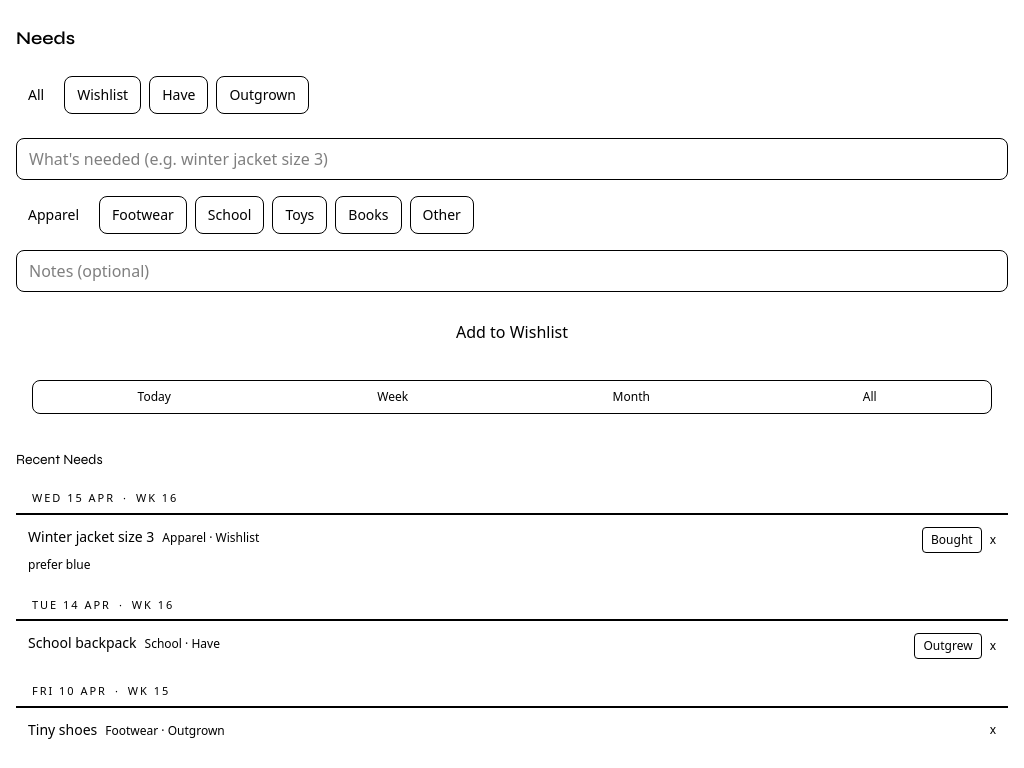
Test: NeedsLog — filter chips › filters to Wishlist entries only
Click the button "Wishlist": [103, 95] box [64,76,141,114]
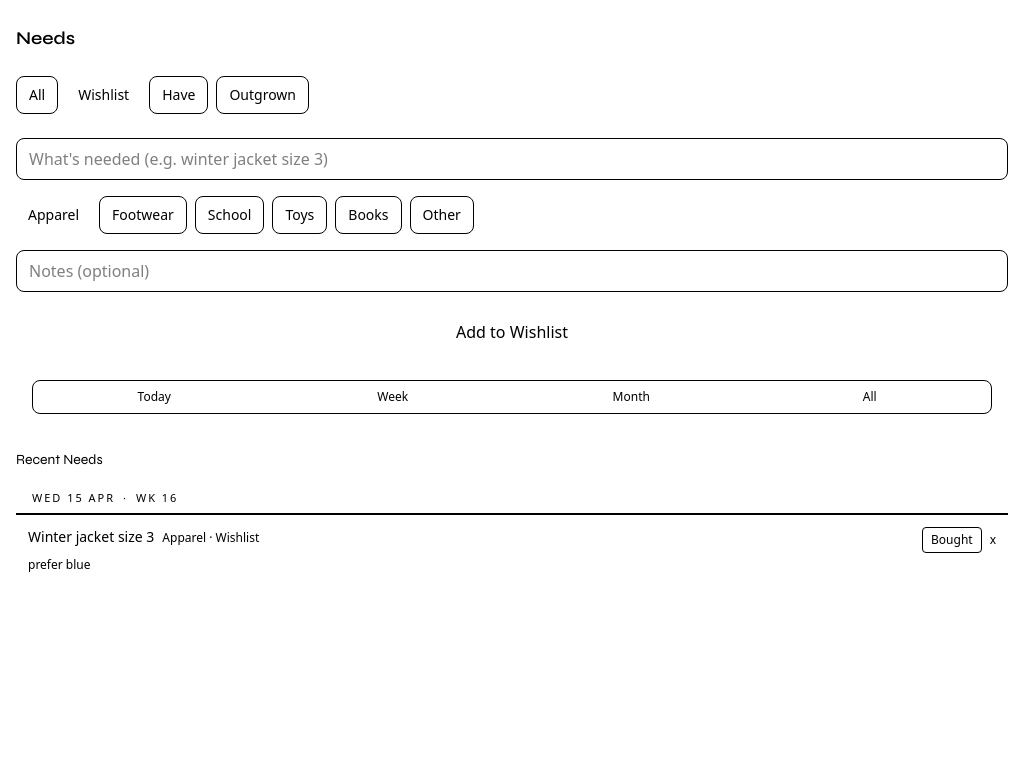
Expected: the text "Winter jacket size 3Apparel · Wishlist" is shown, [28,526,259,552]
Now the button "School backpack" is gone
Now the button "Tiny shoes" is gone
